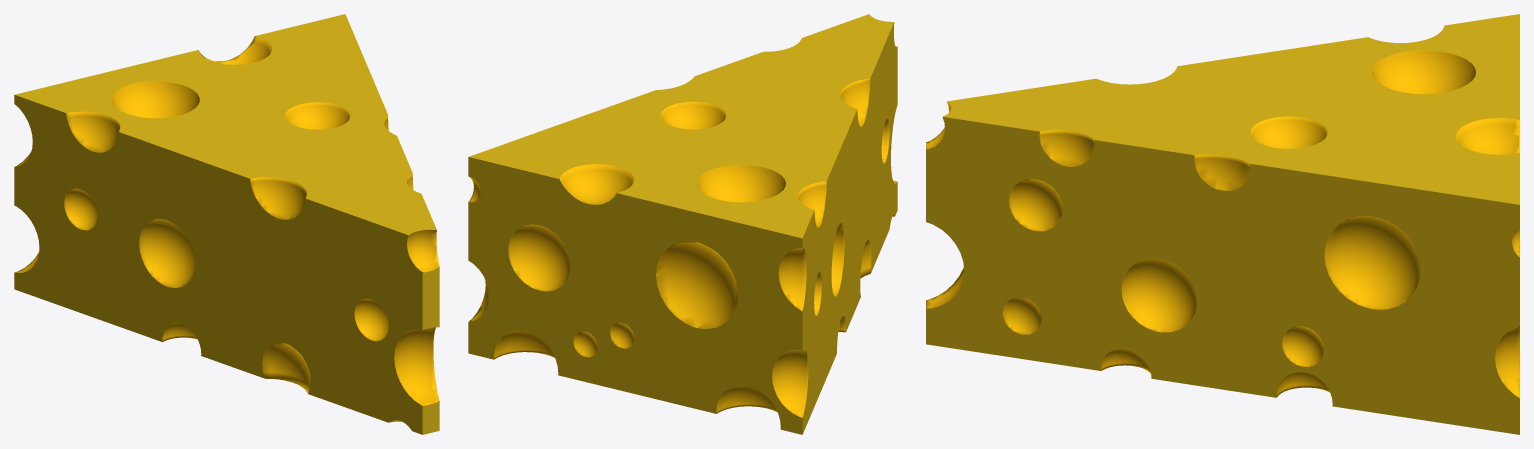
Rendered from cheese.gltf.
3 renders of one model, left to right at view 1: azimuth 30°, elevation 25°; view 2: azimuth 150°, elevation 25°; view 3: azimuth 270°, elevation 25°, orthographic. The views are drawn at different scales.
Visible parts, largest first — view 1: Cheese_0; view 2: Cheese_0; view 3: Cheese_0.
Part boxes in pixels (bbox=[...]): Cheese_0: bbox=[14, 14, 439, 434]; Cheese_0: bbox=[468, 14, 897, 434]; Cheese_0: bbox=[926, 14, 1519, 434].
Size of the model in its own units: 1.78 by 1 by 2.34.
